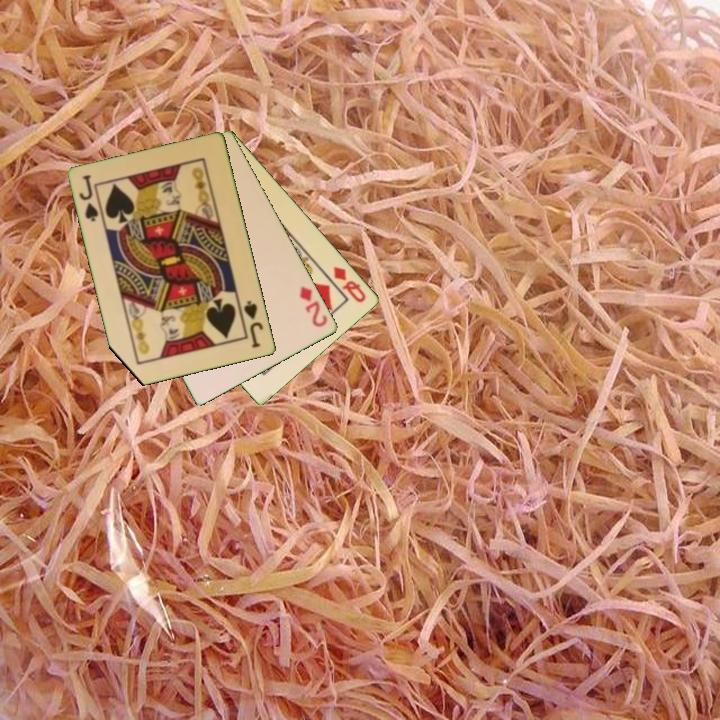2d: (296, 283, 331, 330)
Js: (76, 171, 102, 225), (241, 297, 266, 351)
Qd: (330, 263, 369, 306)
